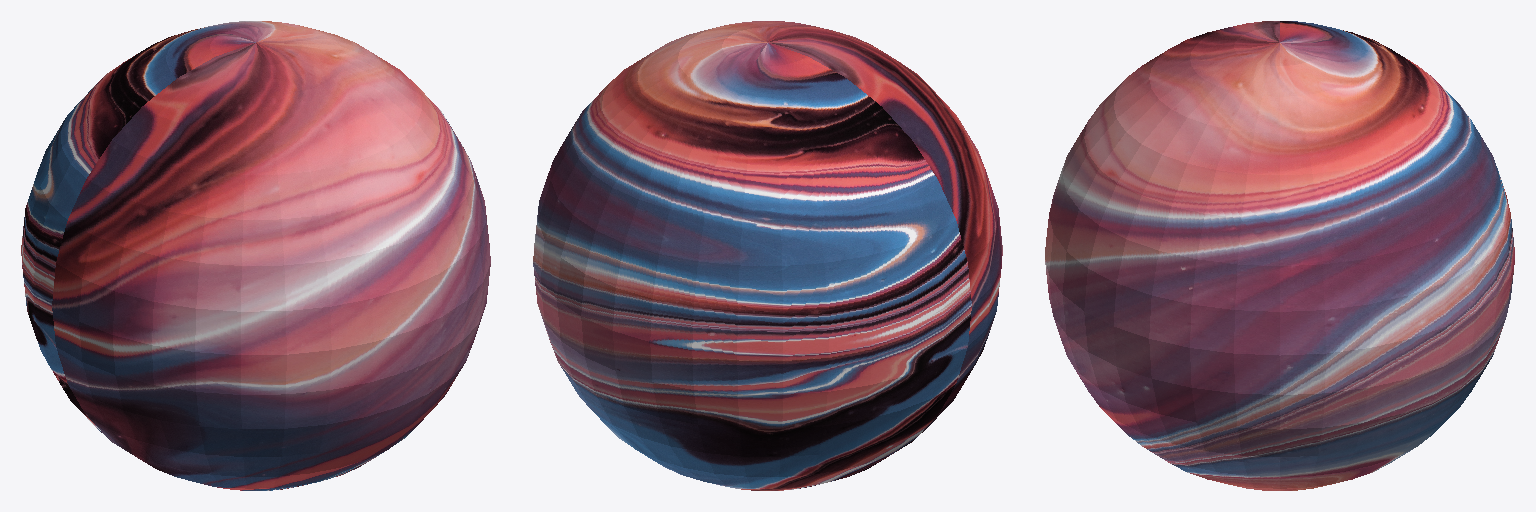
The picture shows the model from 3 angles: view 1: azimuth 30°, elevation 25°; view 2: azimuth 150°, elevation 25°; view 3: azimuth 270°, elevation 25°; orthographic projection.
Visible parts, largest first — view 1: Sphere; view 2: Sphere; view 3: Sphere.
Part boxes in pixels (x1,y1,x2,y2): Sphere: (21,21,490,490); Sphere: (533,21,1002,490); Sphere: (1045,21,1514,490).
Bounding box in the file's own units: 1.12 × 1.12 × 1.12.
Materials: 1 (1 with a texture image).